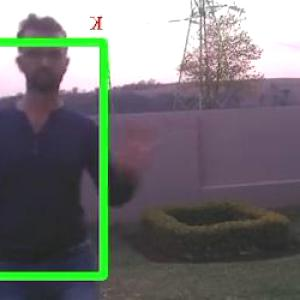follow_hand: (108, 112, 167, 172)
